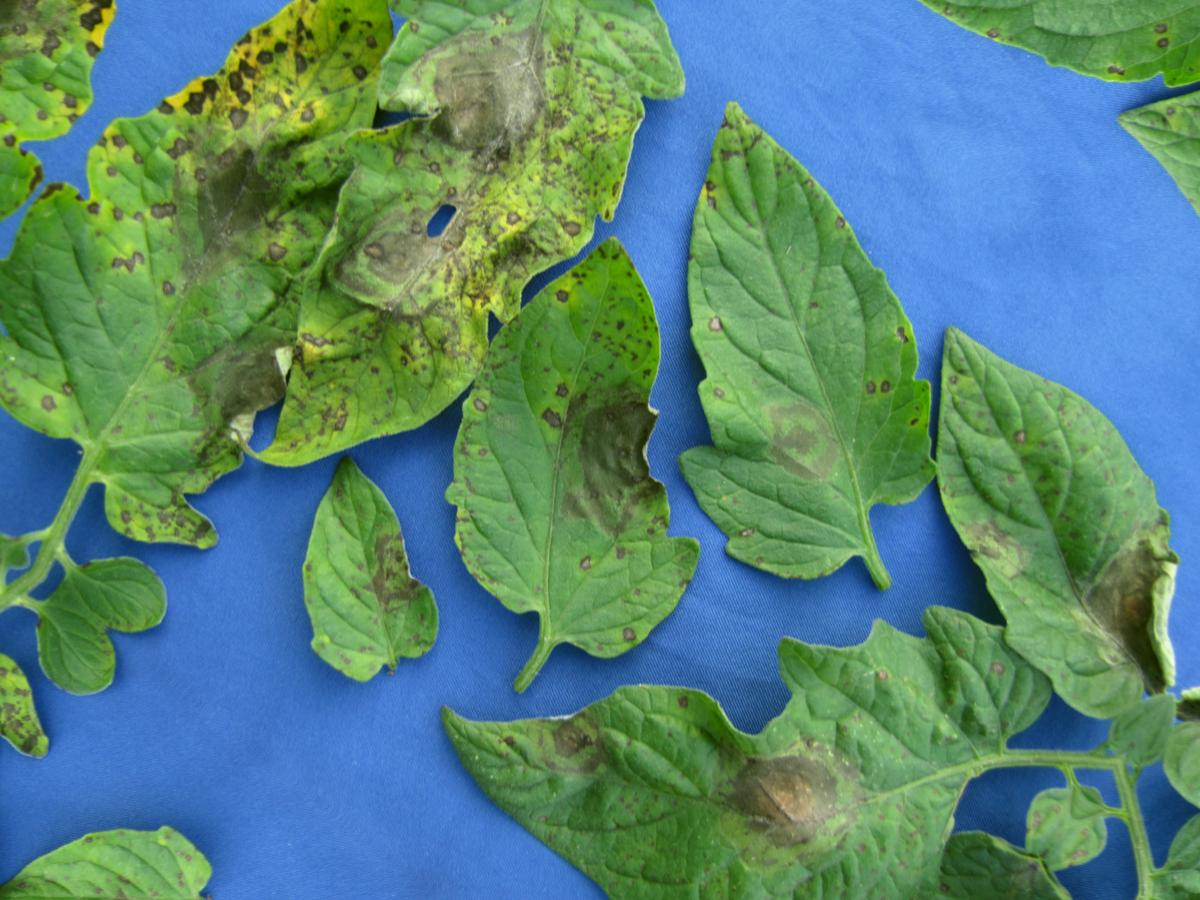Tomato leaf late blight: (0, 0, 599, 620), (107, 0, 771, 548), (381, 394, 1098, 900), (333, 194, 859, 734), (515, 94, 1048, 618), (819, 307, 1200, 731)
